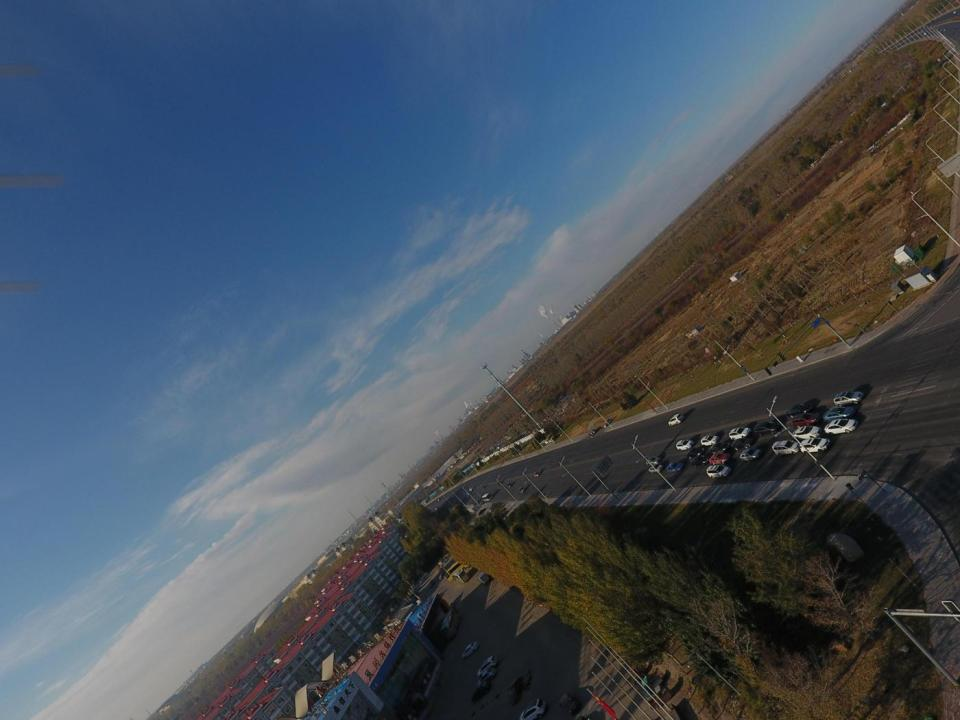bus: (444, 553, 474, 580), (439, 609, 461, 640), (452, 570, 470, 583)
car: (518, 698, 546, 720), (824, 419, 859, 435), (824, 407, 856, 424), (834, 390, 865, 407), (558, 693, 581, 715), (800, 438, 831, 453), (471, 680, 491, 703), (792, 413, 822, 427), (478, 655, 497, 677), (476, 667, 496, 687), (754, 422, 780, 437), (792, 426, 822, 439), (706, 464, 732, 478), (786, 404, 814, 417), (509, 676, 522, 704), (462, 642, 479, 659), (708, 452, 731, 464), (730, 438, 753, 450), (740, 449, 761, 462), (729, 427, 751, 439), (709, 442, 730, 453), (667, 414, 685, 426), (676, 440, 694, 451), (700, 435, 718, 446), (687, 448, 704, 459), (691, 455, 708, 466), (666, 462, 684, 472), (645, 455, 661, 466), (648, 464, 663, 474), (603, 417, 613, 427), (439, 571, 448, 580), (428, 579, 436, 589), (409, 591, 419, 599), (420, 572, 428, 579), (417, 580, 424, 586), (588, 429, 596, 434), (534, 471, 540, 477), (519, 487, 525, 492), (468, 487, 473, 491), (466, 494, 471, 498), (508, 483, 512, 488), (950, 31, 954, 36), (459, 498, 463, 502), (482, 484, 486, 488), (497, 481, 501, 485), (943, 27, 947, 31), (952, 10, 956, 13), (953, 28, 957, 31), (923, 33, 927, 35), (467, 492, 470, 494), (930, 21, 933, 23)
truck: (476, 572, 490, 585)
van: (772, 440, 800, 454), (412, 585, 421, 593), (408, 597, 416, 604)
